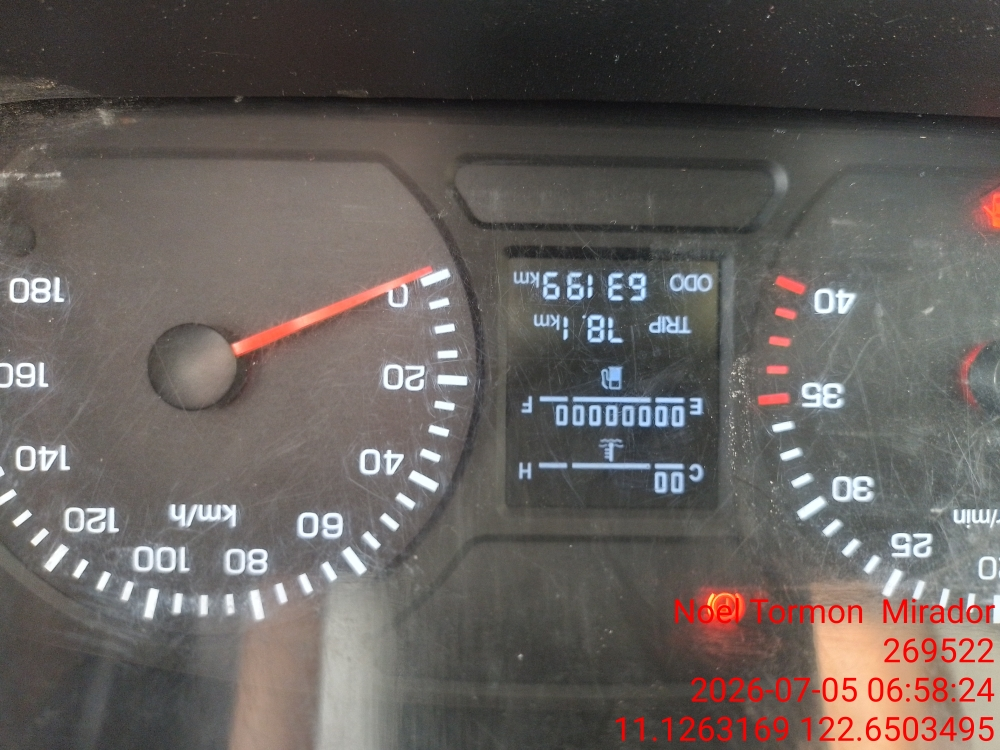grid_pose: (203, 78, 684, 400)
